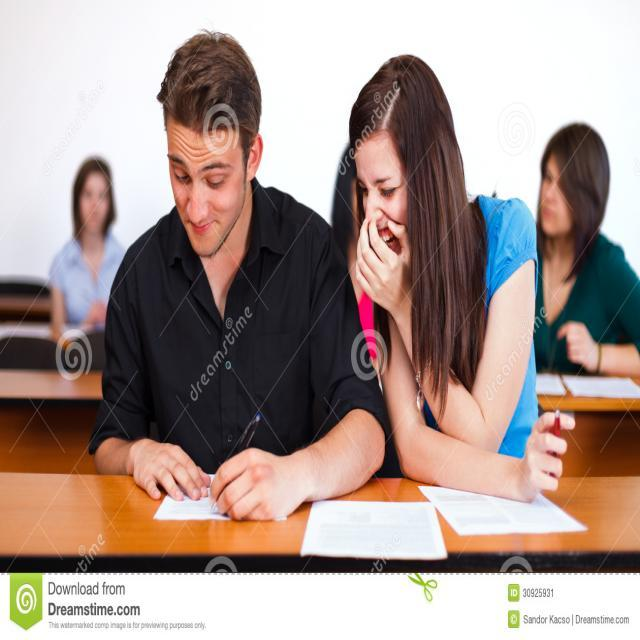cheating: (343, 40, 554, 526)
good: (106, 23, 367, 531)
